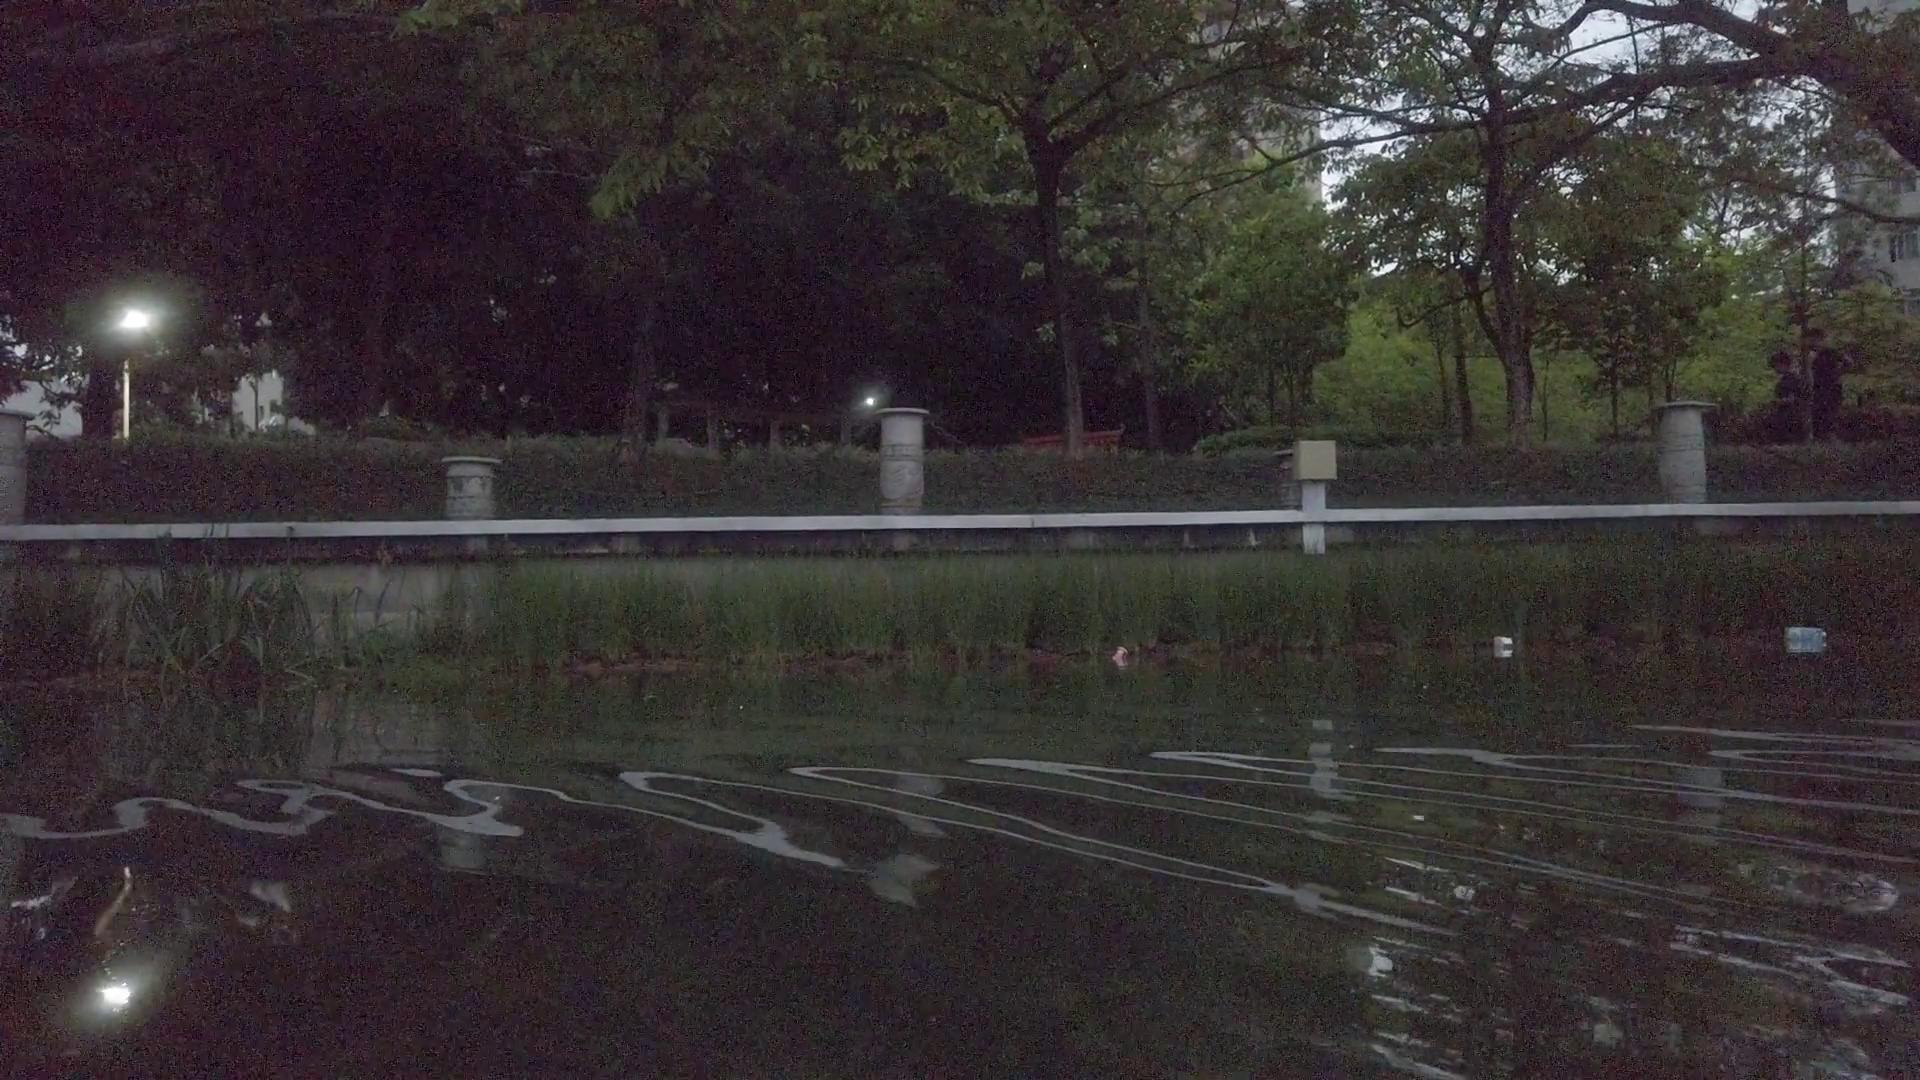bottle: (1785, 629, 1832, 642)
carton: (1491, 636, 1513, 653)
